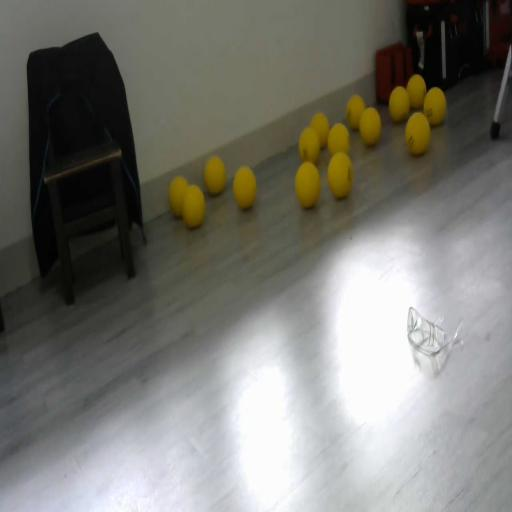FUEL: (326, 151, 354, 198), (294, 161, 322, 208), (232, 165, 257, 210), (405, 112, 430, 155), (168, 174, 190, 218), (423, 86, 447, 126), (359, 107, 382, 145), (204, 156, 226, 195), (388, 86, 410, 123), (327, 122, 350, 157), (310, 112, 330, 149), (406, 74, 427, 109)
